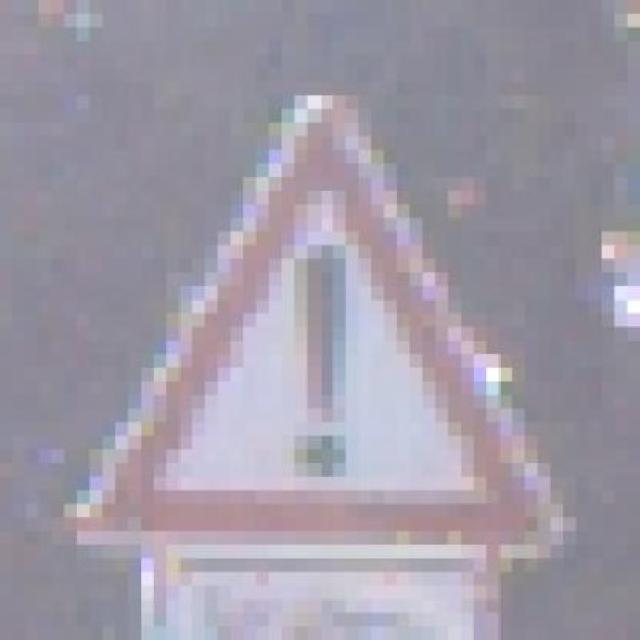Attention Please-: (38, 89, 577, 552)
